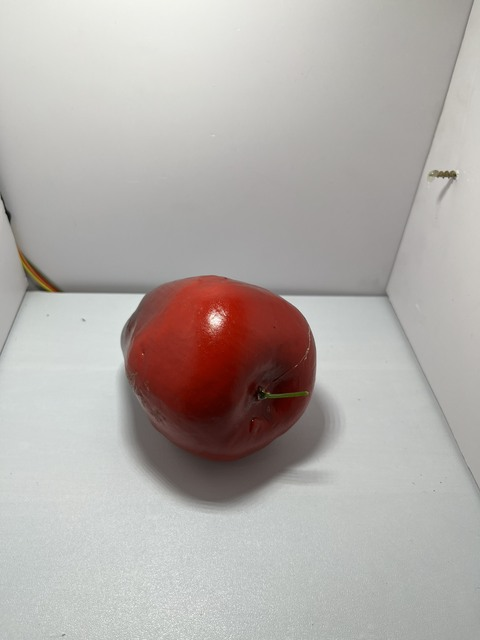Tao: (115, 265, 326, 461)
